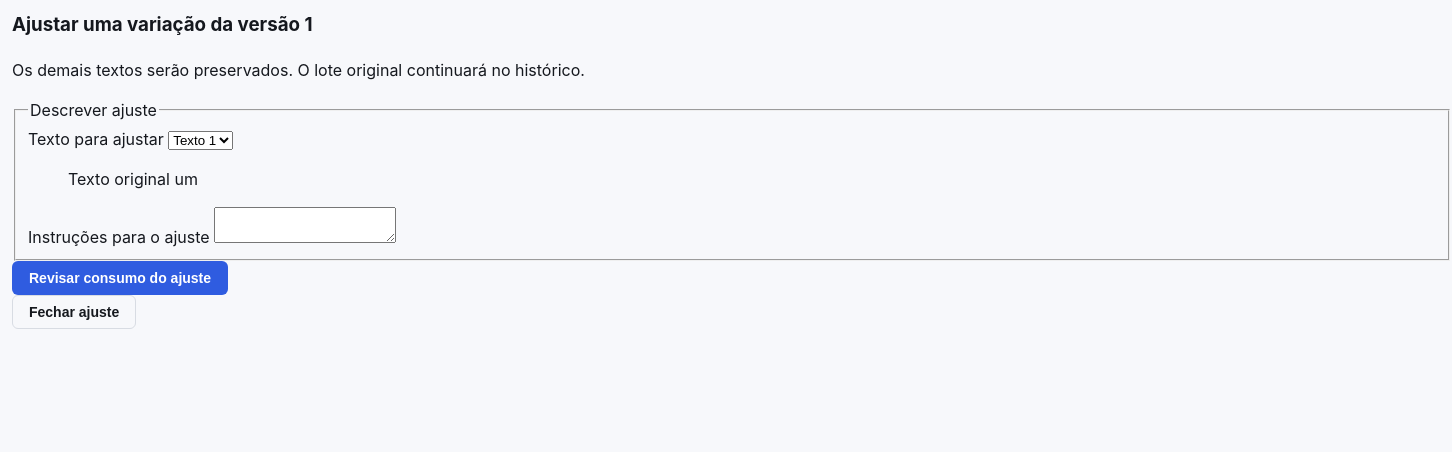
CopyRevisionPanel › cancel before sending has no write and a confirmed delivery survives refresh failure
Select "Texto 2" in the dropdown labelled "Texto para ajustar" at (201,141), box [168,131,233,150]
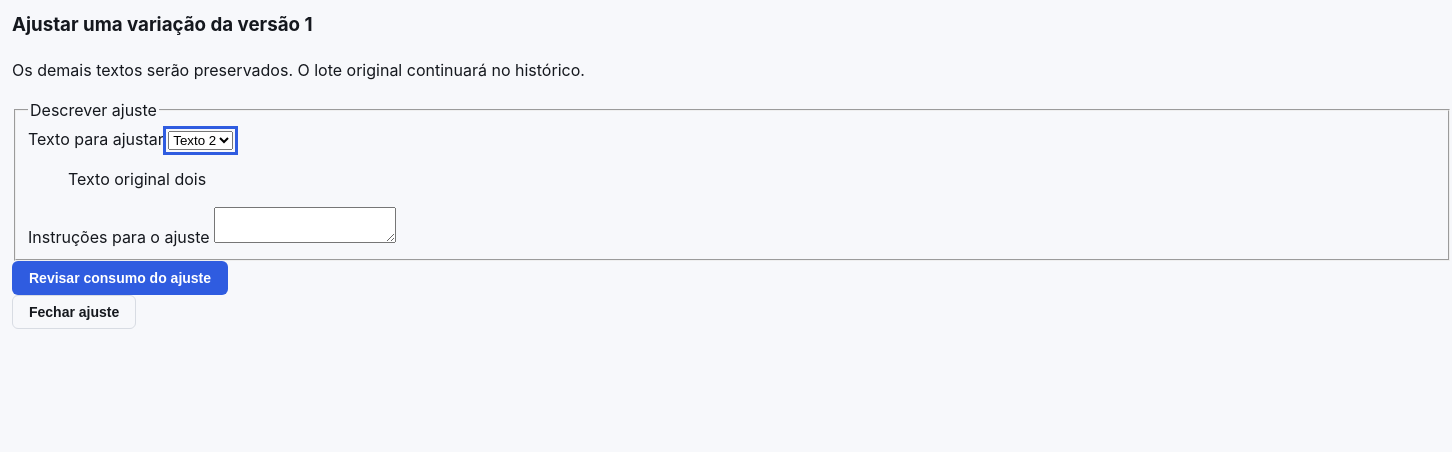
Type "Convite mais direto" into the text box labelled "Instruções para o ajuste" at (305,225), box [214,207,396,243]
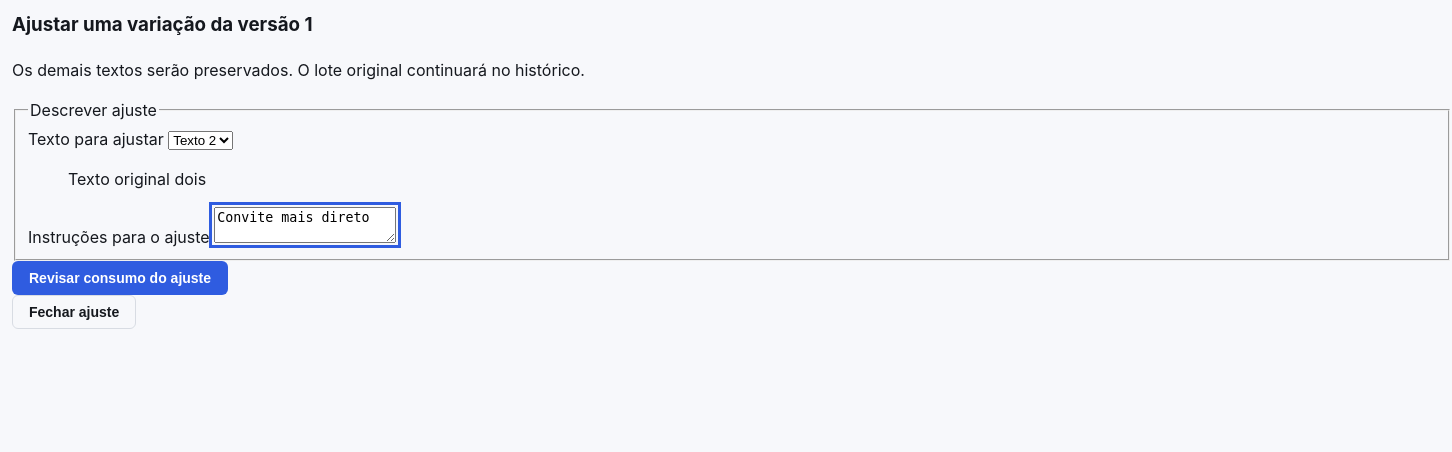
Click the button "Revisar consumo do ajuste" at (120,278), box [12,261,228,295]
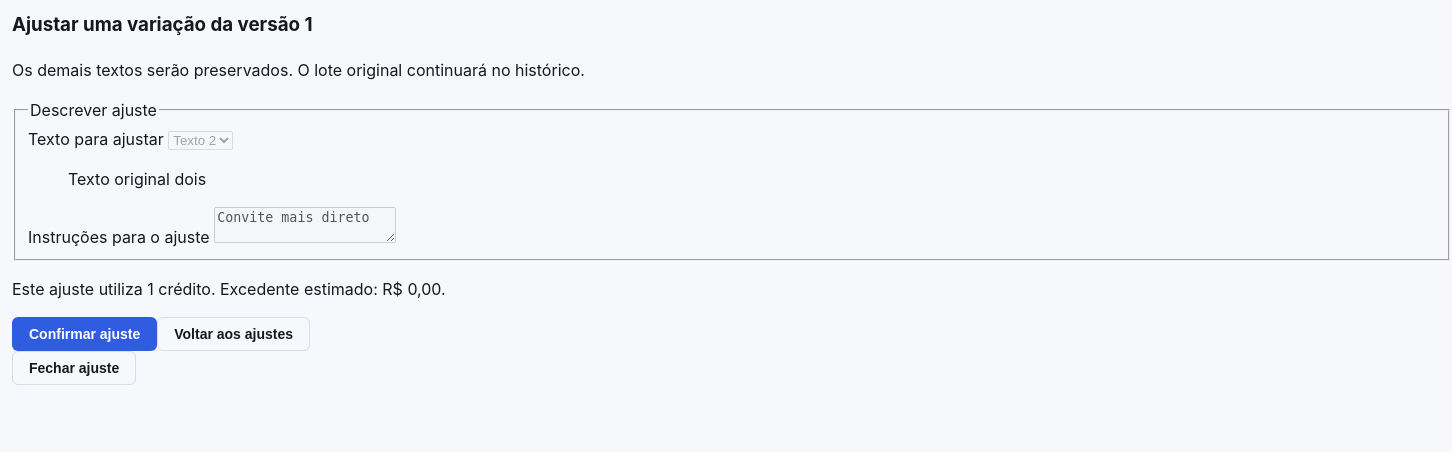
Click the button "Voltar aos ajustes" at (234,334), box [157,317,310,351]
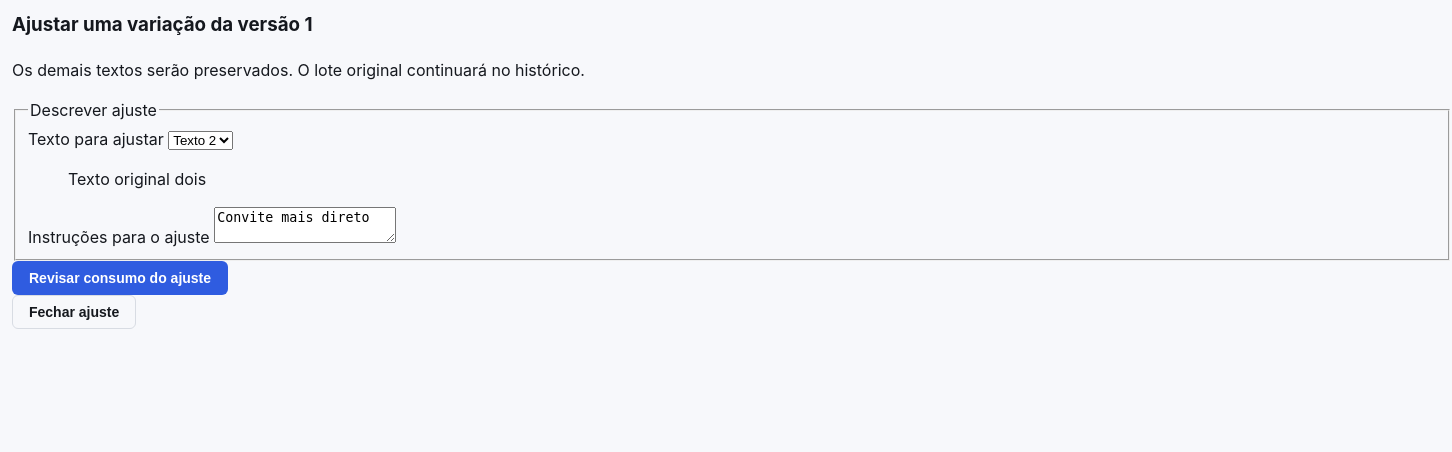
Click the button "Revisar consumo do ajuste" at (120,278), box [12,261,228,295]
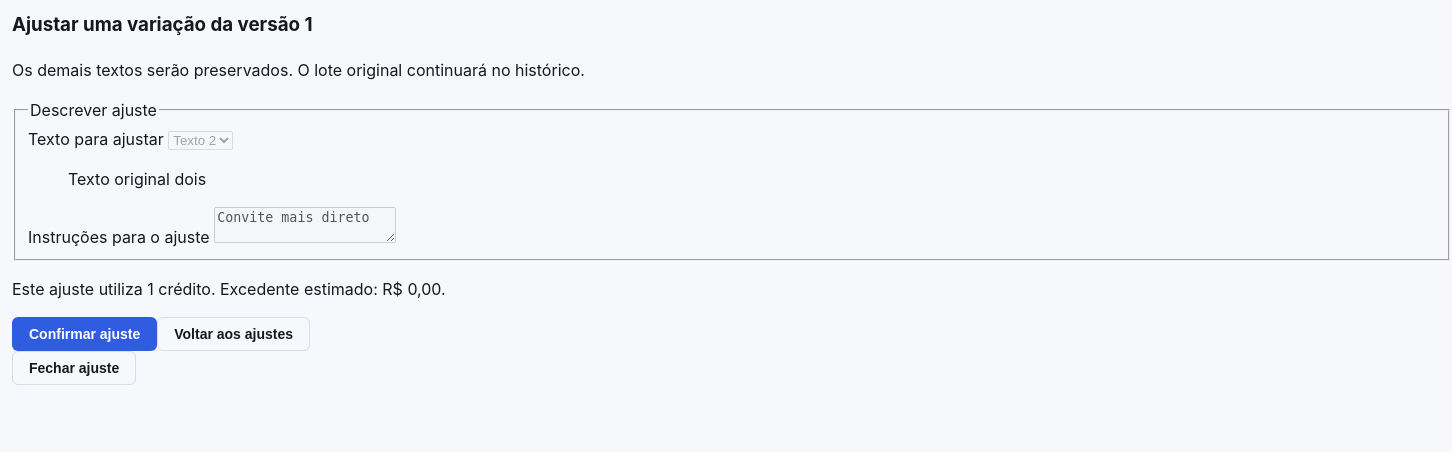
Click the button "Confirmar ajuste" at (85,334), box [12,317,157,351]
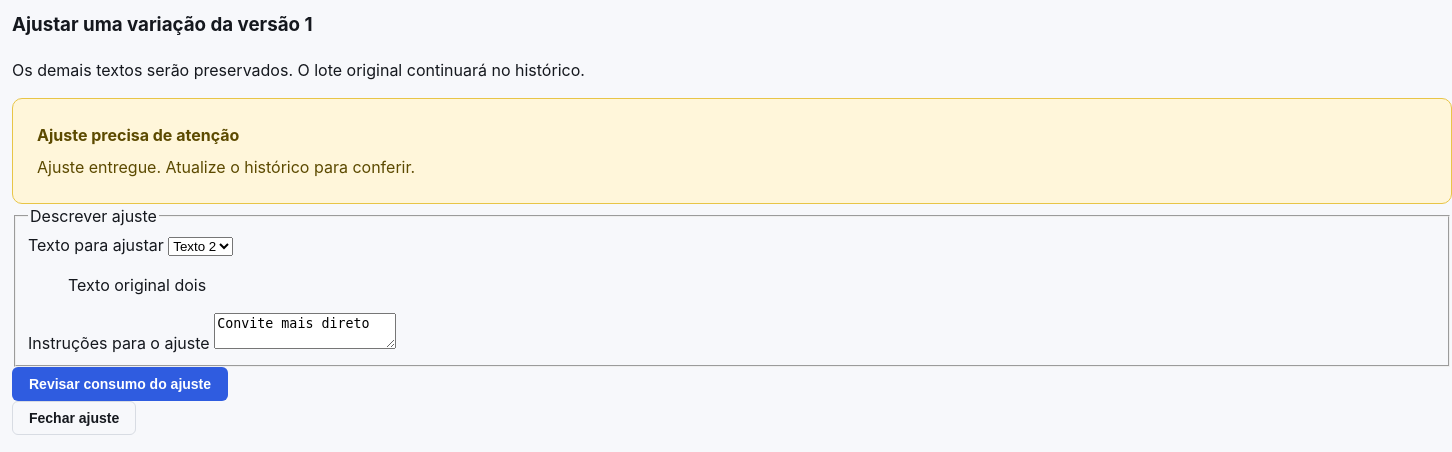
Expected: the text "Ajuste entregue. Atualize o histórico para conferir." is shown, [37,154,415,178]
